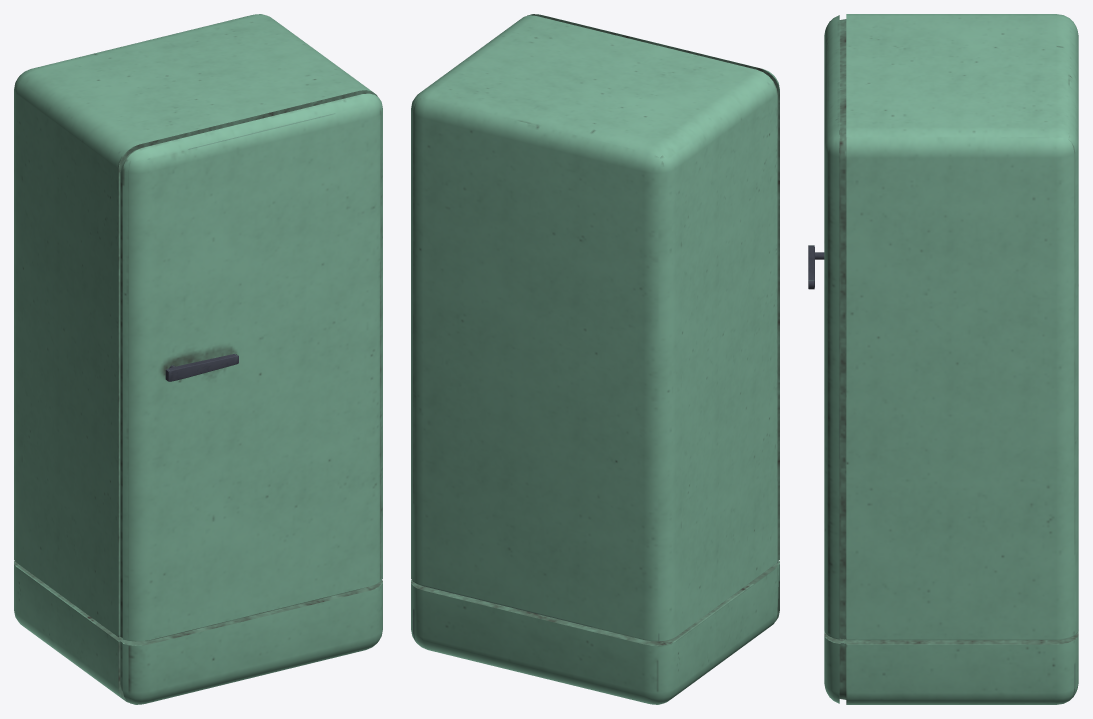
Rendered from refrigerator.fbx.
3 views of the same model, side by side, from view 1: azimuth 30°, elevation 25°; view 2: azimuth 150°, elevation 25°; view 3: azimuth 270°, elevation 25° (orthographic). The views are drawn at different scales.
Parts seen in each view (by area): view 1: Cube.002; view 2: Cube.002; view 3: Cube.002.
Part boxes in pixels (left/top/right/bottom): Cube.002: left=14, top=14, right=382, bottom=704; Cube.002: left=411, top=14, right=779, bottom=704; Cube.002: left=808, top=14, right=1078, bottom=704.
Size of the model in its own units: 91.55 by 186 by 79.41.
